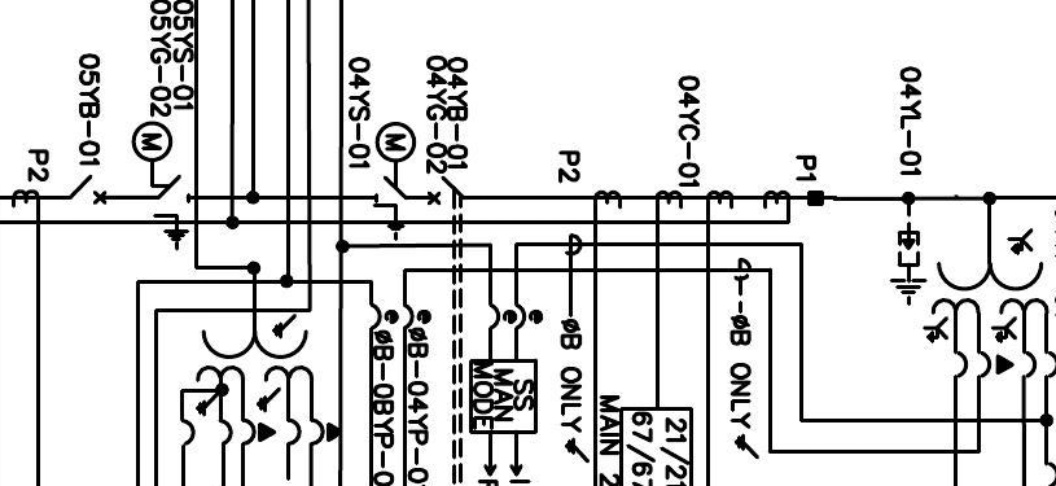115_3ways_ds_w_motor: (130, 120, 191, 252), (372, 120, 417, 242)
115_breaker: (426, 175, 465, 207), (67, 185, 106, 216)
115_vt_1p: (194, 313, 342, 447)
ss_man_mode: (468, 357, 539, 435)
